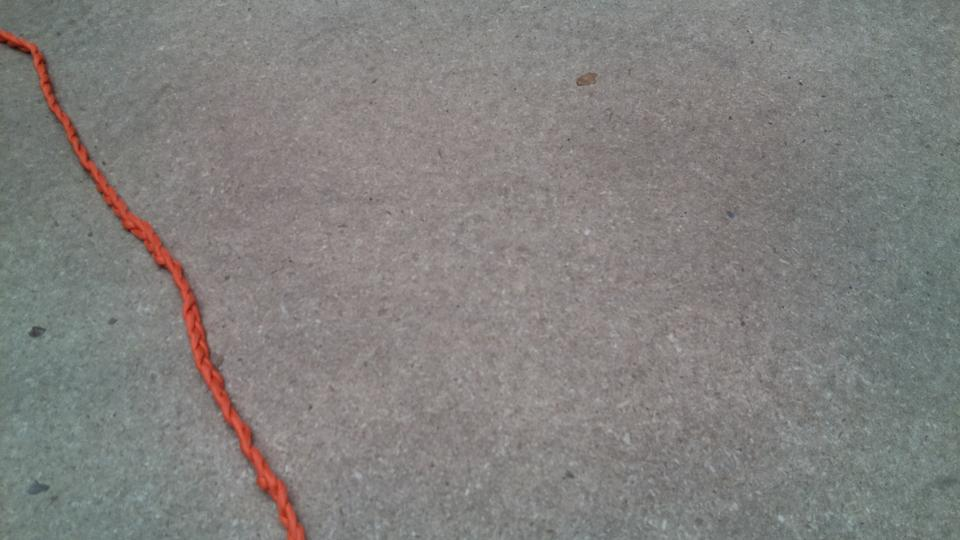rope: (1, 39, 298, 540)
